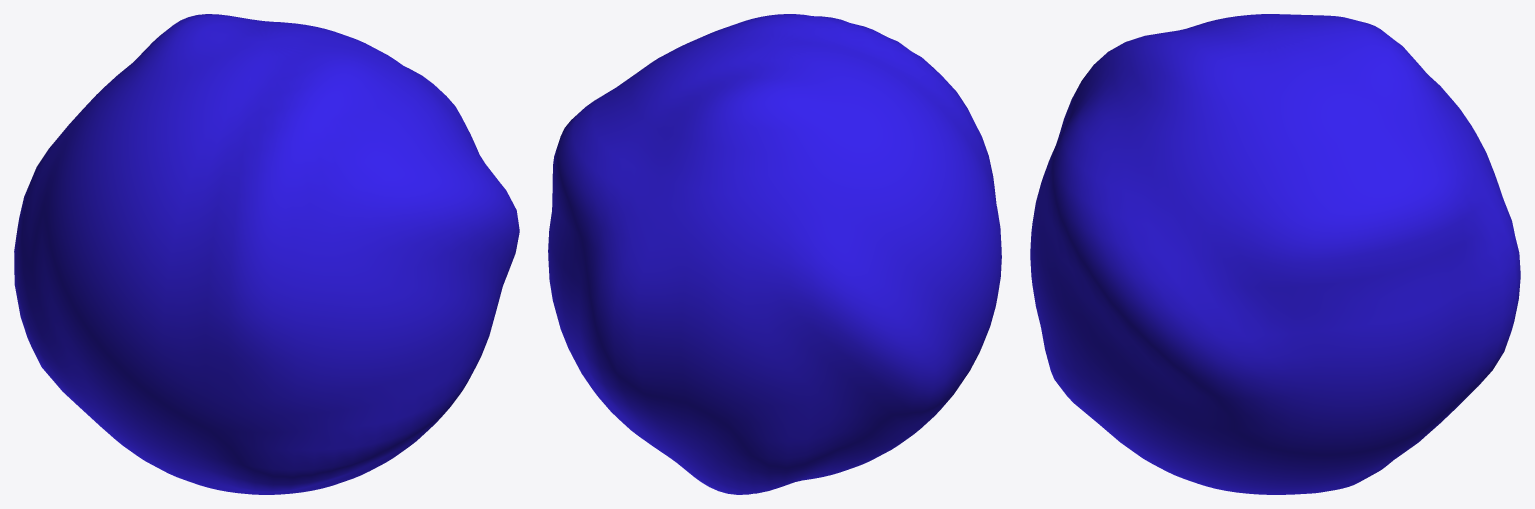
File: Planet.fbx
The picture shows the model from 3 angles, left to right: view 1: azimuth 30°, elevation 25°; view 2: azimuth 150°, elevation 25°; view 3: azimuth 270°, elevation 25°; orthographic projection. The views are drawn at different scales.
Parts seen in each view (by area): view 1: Sphere; view 2: Sphere; view 3: Sphere.
Part boxes in pixels (x1=…): Sphere: x1=14, y1=14, x2=519, y2=494; Sphere: x1=548, y1=14, x2=1001, y2=494; Sphere: x1=1030, y1=14, x2=1520, y2=494.
Bounding box in the file's own units: 2019 × 2006 × 2024.
